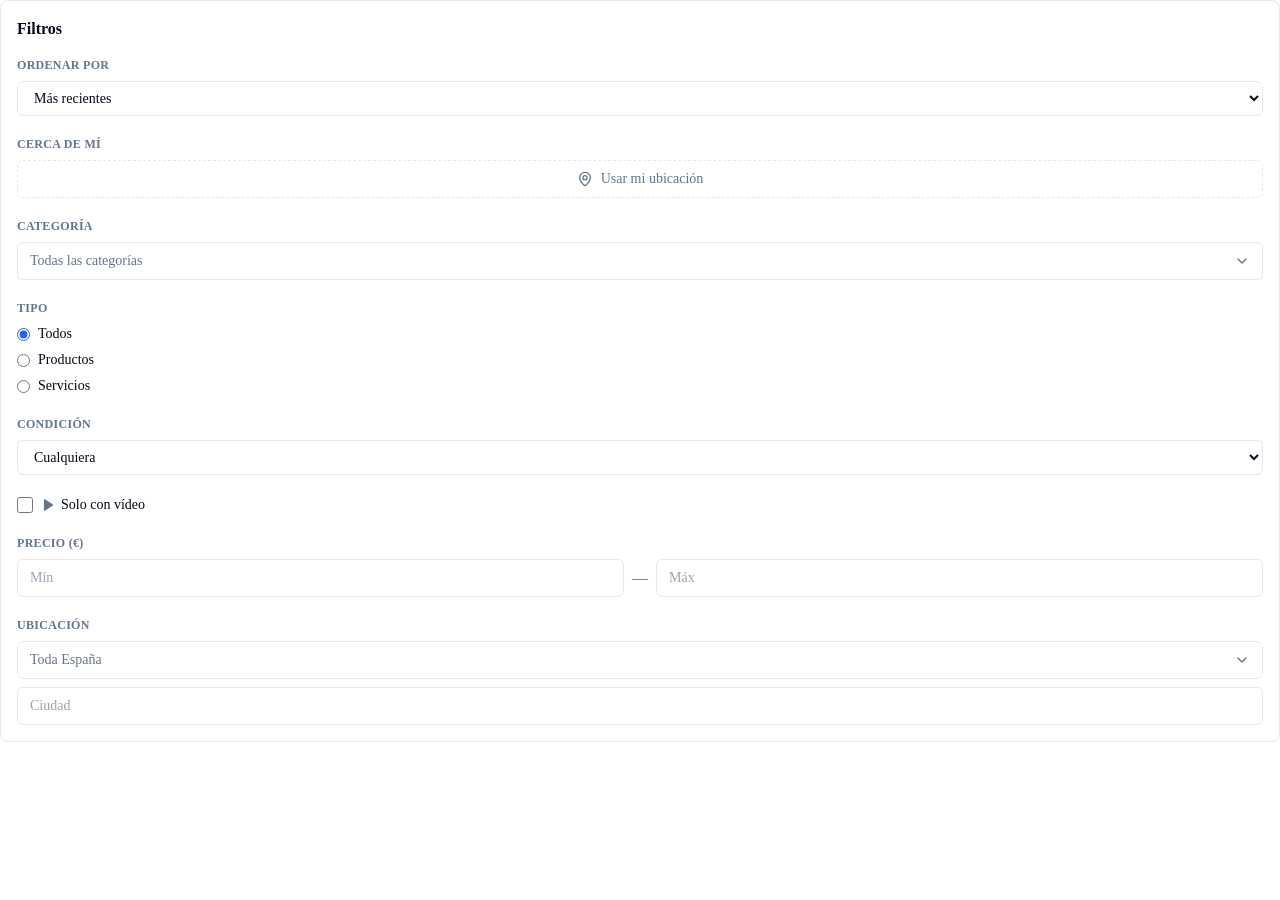
BUG A / A2 — selector de categoría › con árbol → "Todas las categorías" + cada categoría, con su ruta al lado
Click the button "Todas las categorías". click: (86, 260)
box: left=17, top=242, right=1263, bottom=280
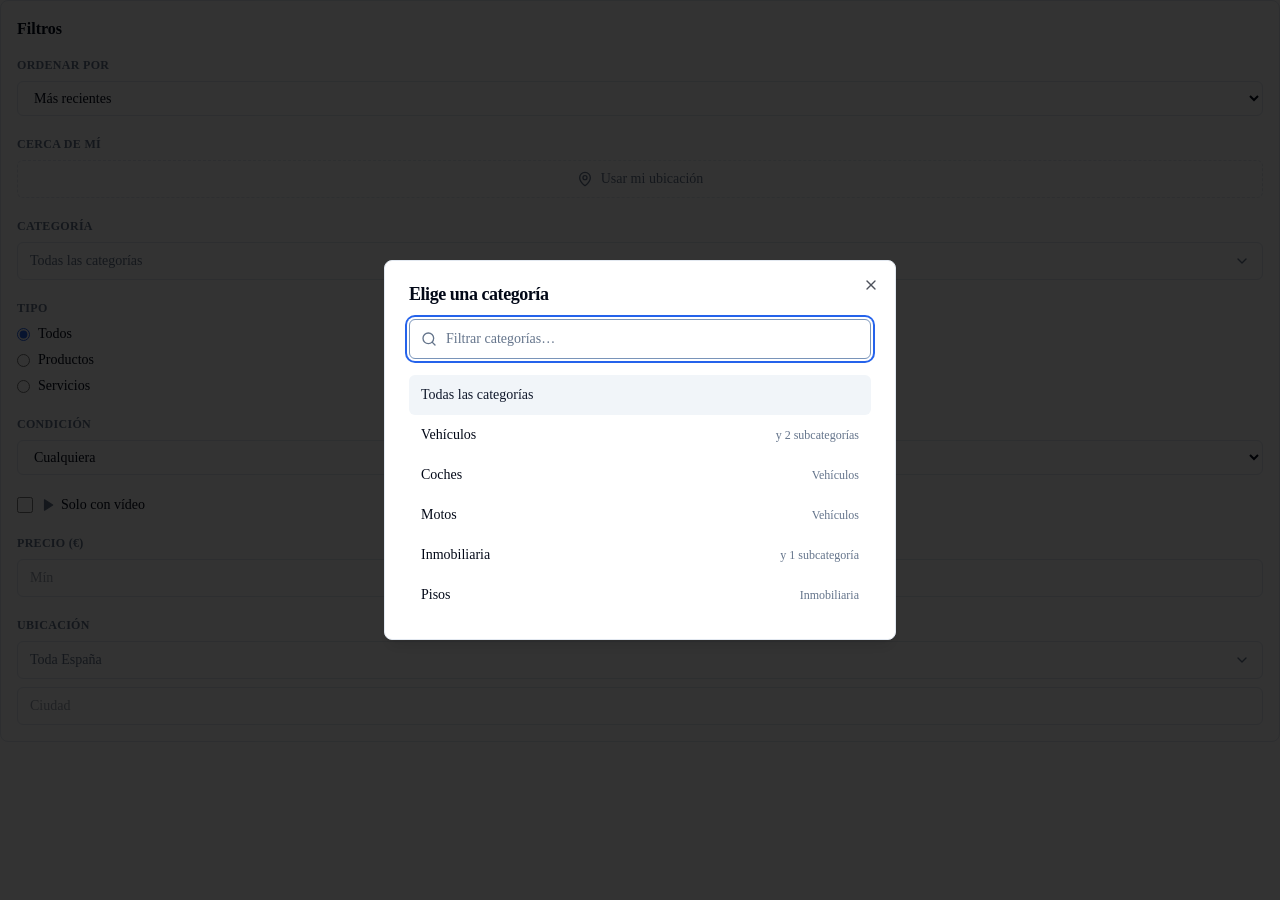
Result: the option "Pisos Inmobiliaria" is shown at left=421, top=587, right=859, bottom=602
